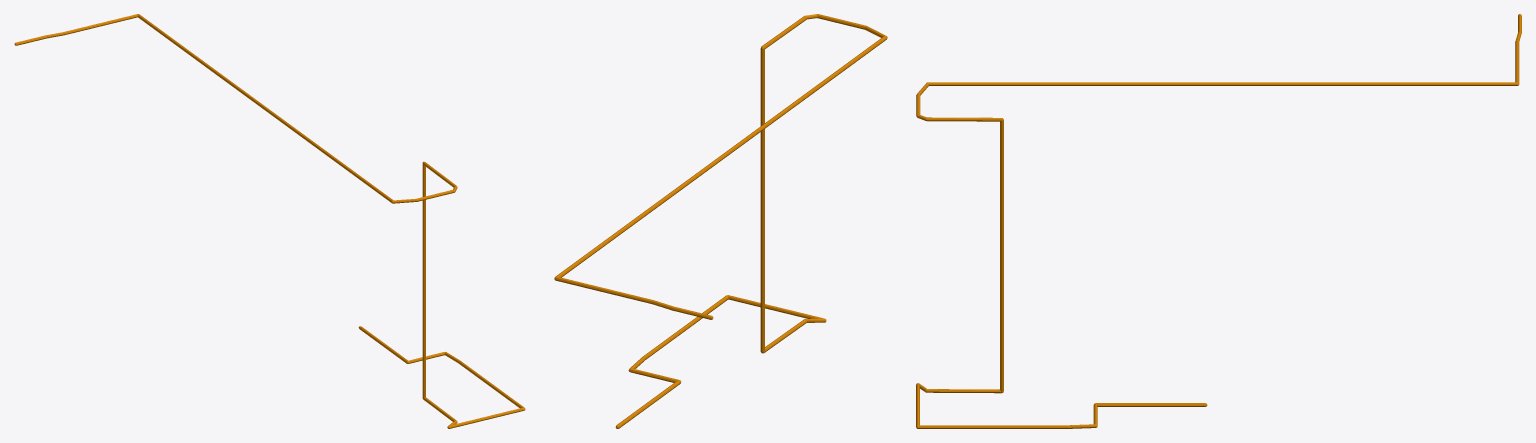
3 views of the same model, side by side, from view 1: azimuth 30°, elevation 25°; view 2: azimuth 150°, elevation 25°; view 3: azimuth 270°, elevation 25° (orthographic). The views are drawn at different scales.
Size of the model in its own units: 1674 by 1520 by 3033.
